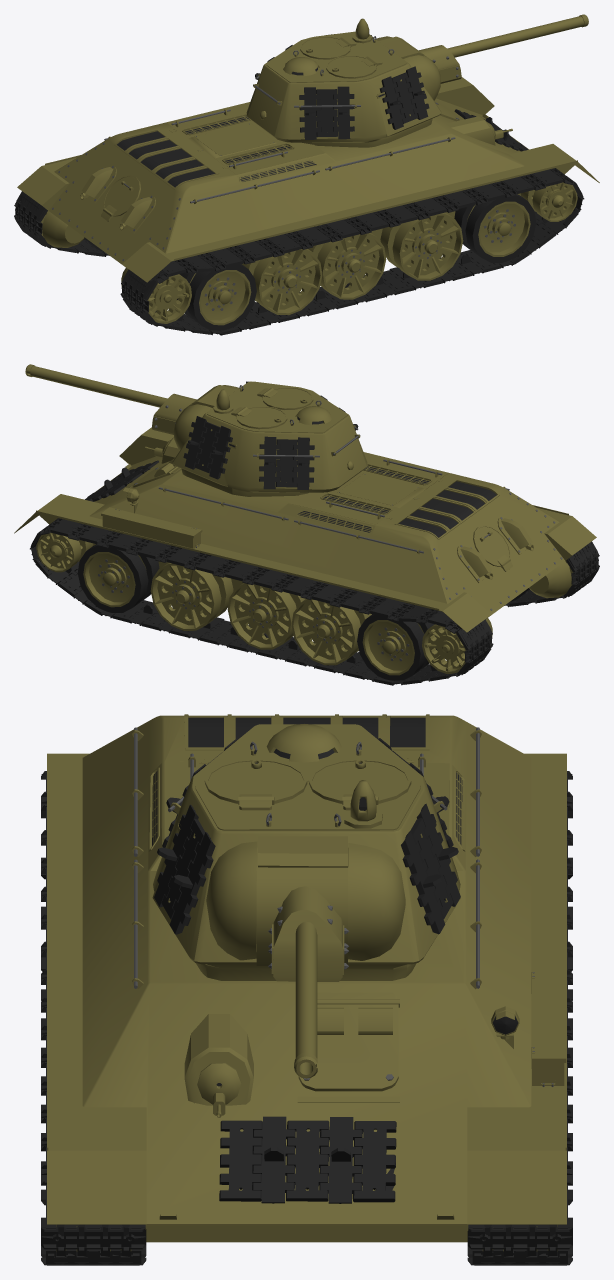
The picture shows the model from 3 angles, top to bottom: view 1: azimuth 30°, elevation 25°; view 2: azimuth 150°, elevation 25°; view 3: azimuth 270°, elevation 25°; orthographic projection. The views are drawn at different scales.
Visible parts, largest first — view 1: T34 Body, R.Truck, T34 Head, T34 Body.001, R.Wheel.002, R.Wheel.001, T34 Gun, R.Wheel.005, R.Wheel.004, R.Wheel.003, R.Wheel.006, L.Truck (+2 smaller); view 2: T34 Body, L.Truck, T34 Head, T34 Body.001, Cylinder.003, Cylinder.001, T34 Gun, Cylinder.002, Cylinder.005, Cylinder.004, L.wheel.001, R.Truck (+2 smaller); view 3: T34 Body, T34 Head, T34 Gun, T34 Body.001, R.Truck, L.Truck.
Boxes of the visible parts, <box> form: T34 Body: <box>17,77,599,282</box>; R.Truck: <box>120,168,584,335</box>; T34 Head: <box>246,18,441,147</box>; T34 Body.001: <box>255,34,429,139</box>; R.Wheel.002: <box>380,212,463,280</box>; R.Wheel.001: <box>454,194,536,262</box>; T34 Gun: <box>376,14,588,100</box>; R.Wheel.005: <box>177,253,256,330</box>; R.Wheel.004: <box>242,249,322,315</box>; R.Wheel.003: <box>308,232,386,299</box>; R.Wheel.006: <box>121,268,191,323</box>; L.Truck: <box>14,191,109,256</box>; T34 Body: <box>14,427,596,632</box>; L.Truck: <box>30,518,493,685</box>; T34 Head: <box>172,381,367,496</box>; T34 Body.001: <box>183,381,358,489</box>; Cylinder.003: <box>150,562,233,630</box>; Cylinder.001: <box>77,544,159,612</box>; T34 Gun: <box>25,364,239,450</box>; Cylinder.002: <box>357,603,437,680</box>; Cylinder.005: <box>291,599,371,665</box>; Cylinder.004: <box>227,583,305,649</box>; L.wheel.001: <box>422,618,492,673</box>; R.Truck: <box>504,541,599,607</box>; T34 Body: <box>47,714,566,1242</box>; T34 Head: <box>152,724,460,980</box>; T34 Gun: <box>206,836,405,1078</box>; T34 Body.001: <box>154,738,460,934</box>; R.Truck: <box>41,771,146,1265</box>; L.Truck: <box>467,771,572,1265</box>.
Bounding box in the file's own units: 786 × 305 × 357.
